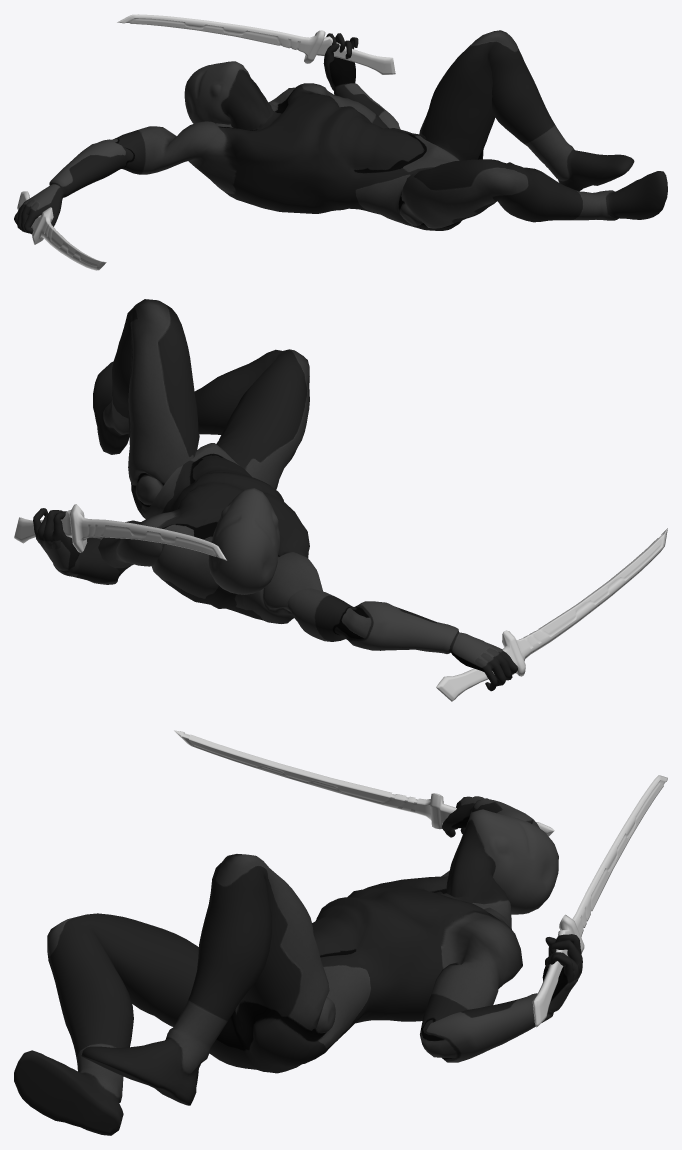
3 renders of one model, top to bottom at view 1: azimuth 30°, elevation 25°; view 2: azimuth 150°, elevation 25°; view 3: azimuth 270°, elevation 25°, orthographic. The views are drawn at different scales.
Parts seen in each view (by area): view 1: Cyborg_Ninja_Killer, Sword_l, Sword_l001; view 2: Cyborg_Ninja_Killer, Sword_l001, Sword_l; view 3: Cyborg_Ninja_Killer, Sword_l001, Sword_l.
Boxes of the visible parts, x1,y1,x2,y2 form: Cyborg_Ninja_Killer: (14,30,667,233); Sword_l: (117,14,395,74); Sword_l001: (17,191,106,270); Cyborg_Ninja_Killer: (33,299,517,691); Sword_l001: (436,528,667,701); Sword_l: (14,504,226,560); Cyborg_Ninja_Killer: (14,796,582,1135); Sword_l001: (174,730,554,836); Sword_l: (532,775,667,1027).
Bounding box in the file's own units: 178 × 61.7 × 147.
